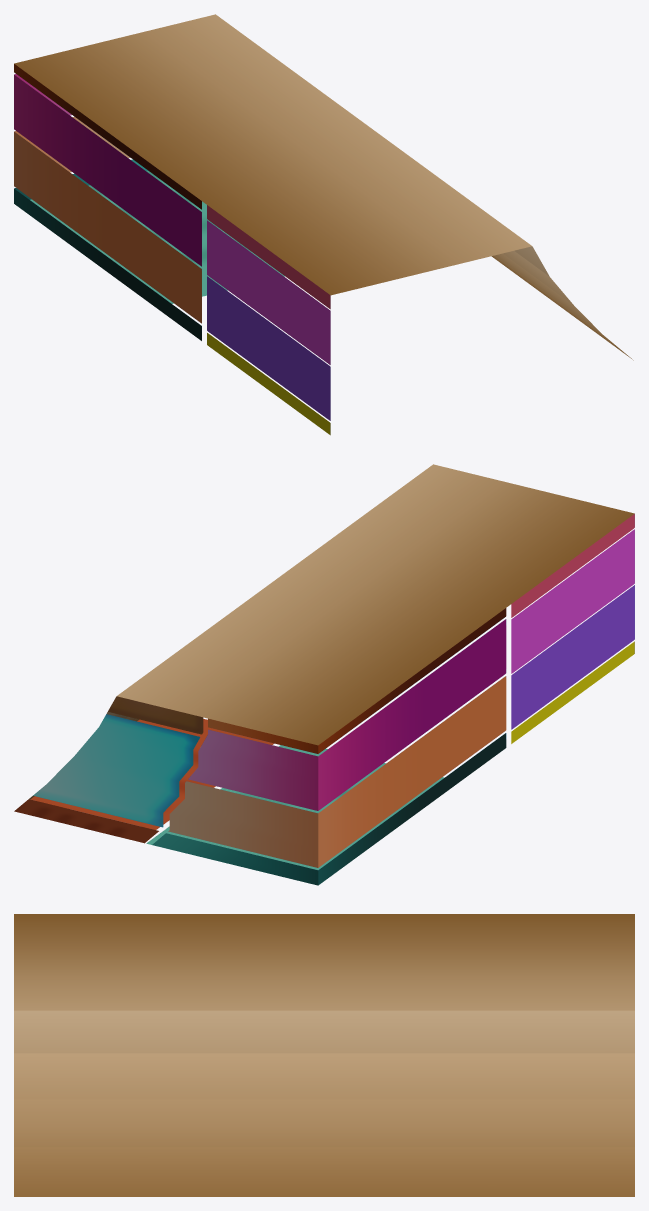
Rendered from slide.fbx.
3 renders of one model, top to bottom at view 1: azimuth 30°, elevation 25°; view 2: azimuth 150°, elevation 25°; view 3: azimuth 270°, elevation 25°, orthographic. The views are drawn at different scales.
Visible parts, largest first — view 1: Cube.281; view 2: Cube.281; view 3: Cube.281.
Part boxes in pixels (x1,y1,x2,y2): Cube.281: (14, 14, 633, 435); Cube.281: (14, 464, 634, 885); Cube.281: (14, 914, 634, 1196).
Size of the model in its own units: 1605 by 707 by 2894.
